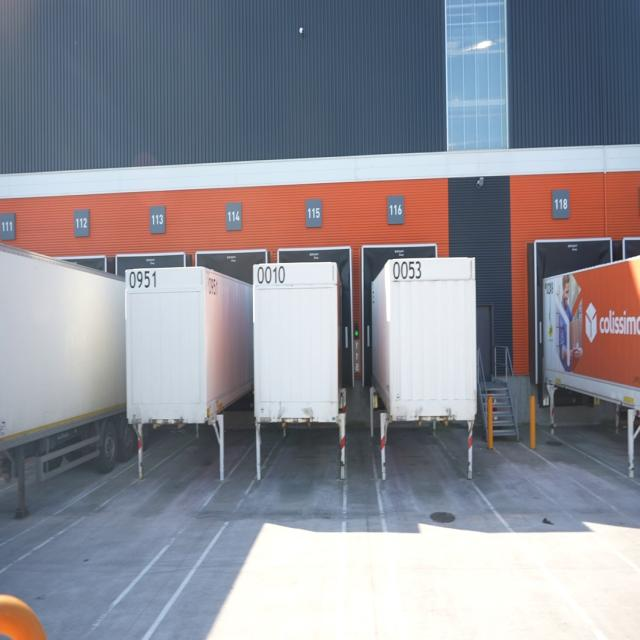Code: (391, 258, 424, 283), (128, 267, 160, 291), (256, 264, 287, 288)
